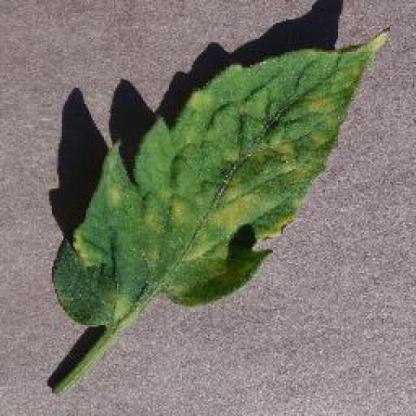Strawberry_Anthracnose_Fruit_Rot: (215, 187, 274, 239)
